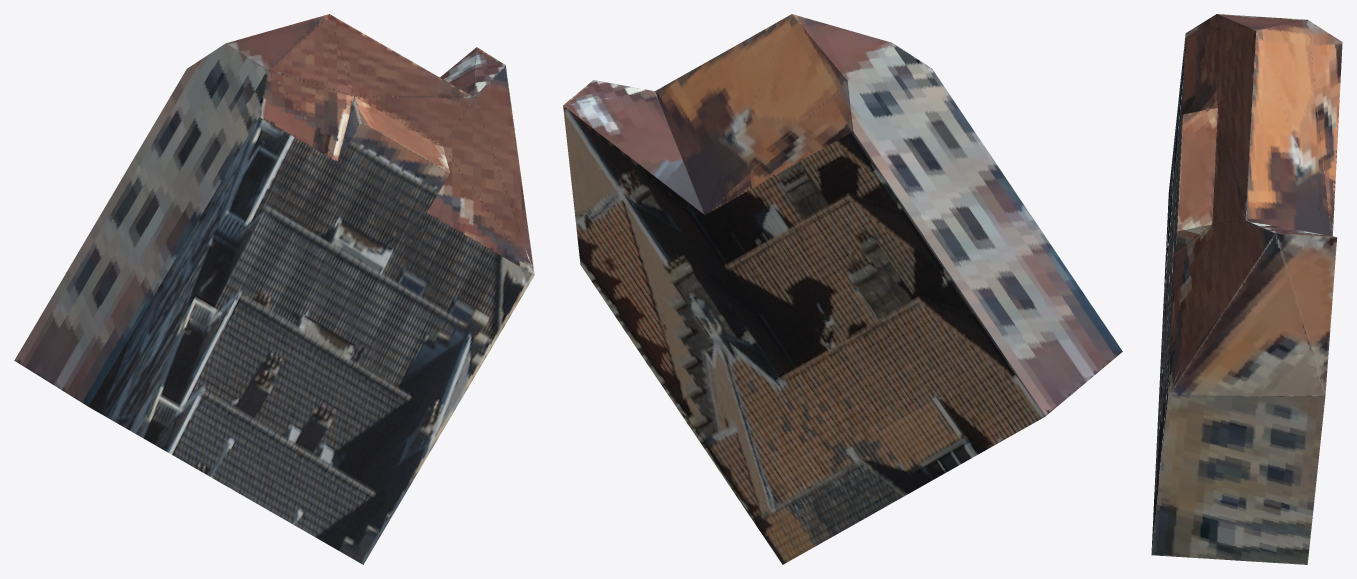
The picture shows the model from 3 angles, left to right: view 1: azimuth 30°, elevation 25°; view 2: azimuth 150°, elevation 25°; view 3: azimuth 270°, elevation 25°; orthographic projection. The views are drawn at different scales.
Parts seen in each view (by area): view 1: BAG_0599100000671599 (×5); view 2: BAG_0599100000671599 (×4); view 3: BAG_0599100000671599 (×5).
Boxes of the visible parts, x1=… form: BAG_0599100000671599 (×5): x1=14, y1=14, x2=534, y2=564; BAG_0599100000671599 (×4): x1=563, y1=14, x2=1122, y2=564; BAG_0599100000671599 (×5): x1=1151, y1=14, x2=1342, y2=564.
Size of the model in its own units: 22.16 by 23.44 by 7.49.
Materials: 5 (5 with a texture image).
